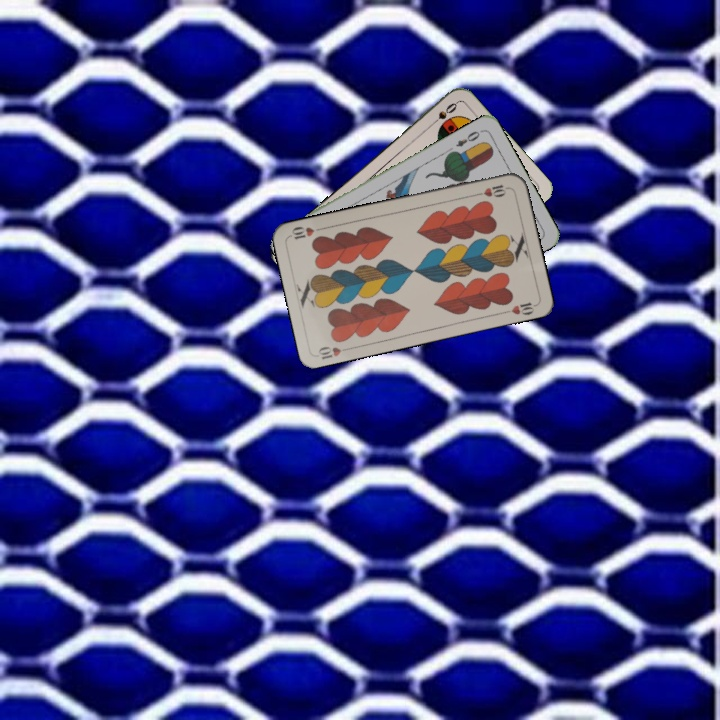EO: (452, 126, 485, 149)
H10: (314, 342, 354, 362), (471, 180, 511, 199)
SO: (426, 98, 460, 129)
